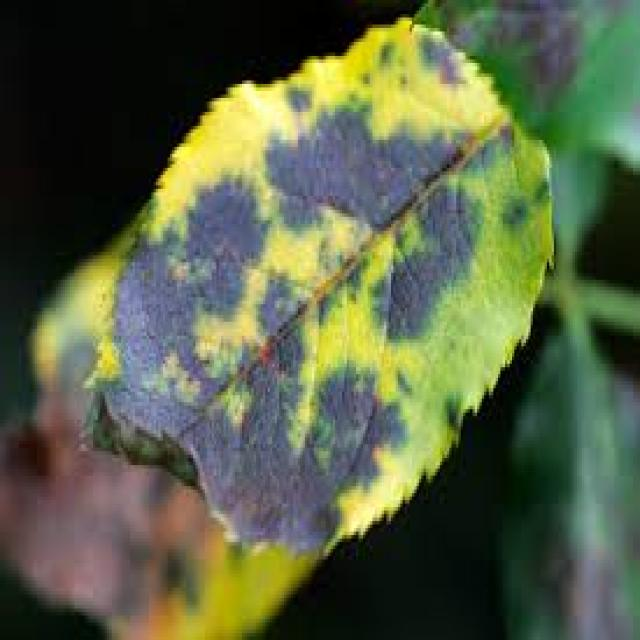black-spot: (132, 158, 420, 520)
